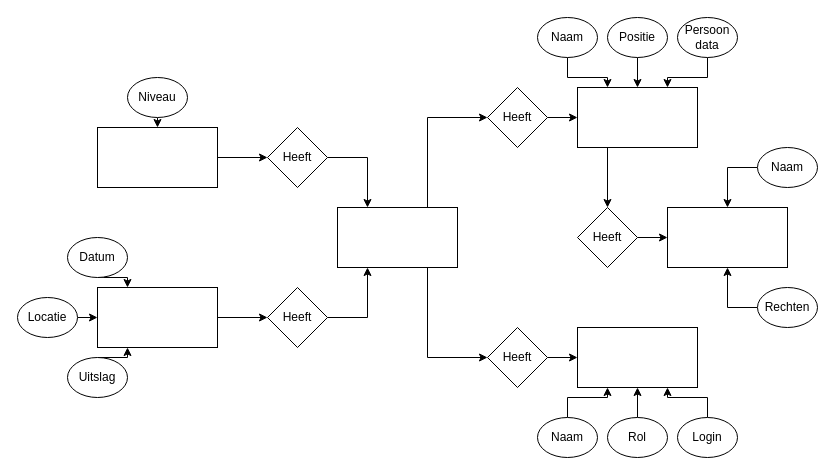
This 835x475 diagram has some shape labels left out. The box of each missing label's shape, as (x1, y1, x2, y2) in pixels:
Competitie: (96, 126, 218, 188)
Ouder: (666, 206, 788, 268)
Speler: (576, 86, 698, 148)
Team: (336, 206, 458, 268)
Trainer: (576, 326, 698, 388)
Wedstrijd: (96, 286, 218, 348)
